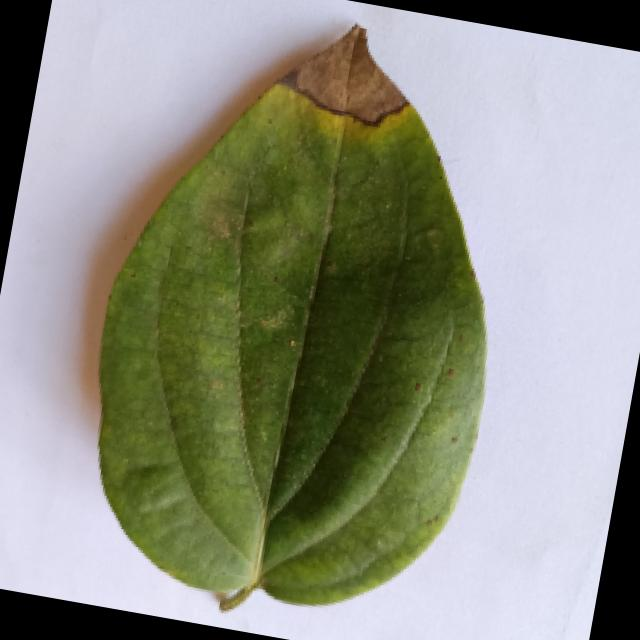footrot: (53, 6, 538, 640)
